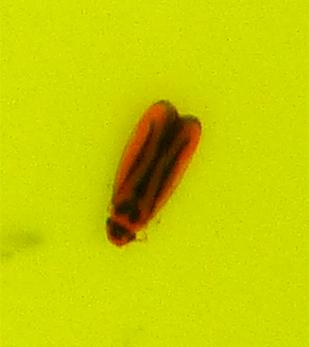Hemiptera: (100, 100, 209, 247)
